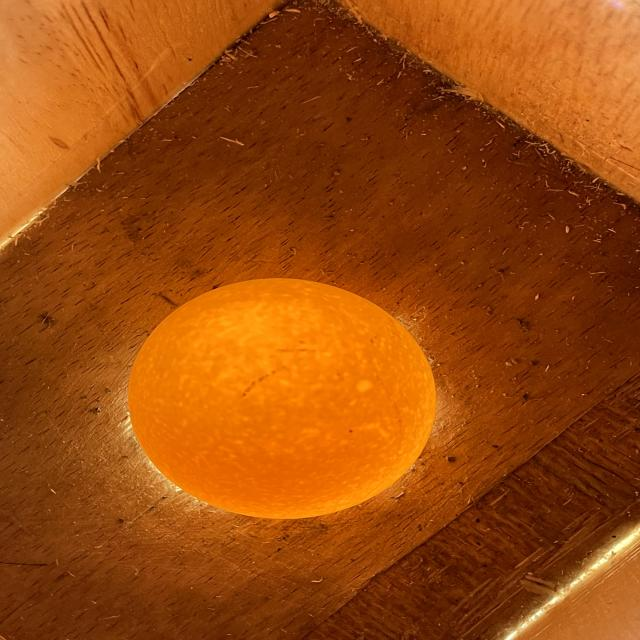infertile: (128, 279, 435, 519)
